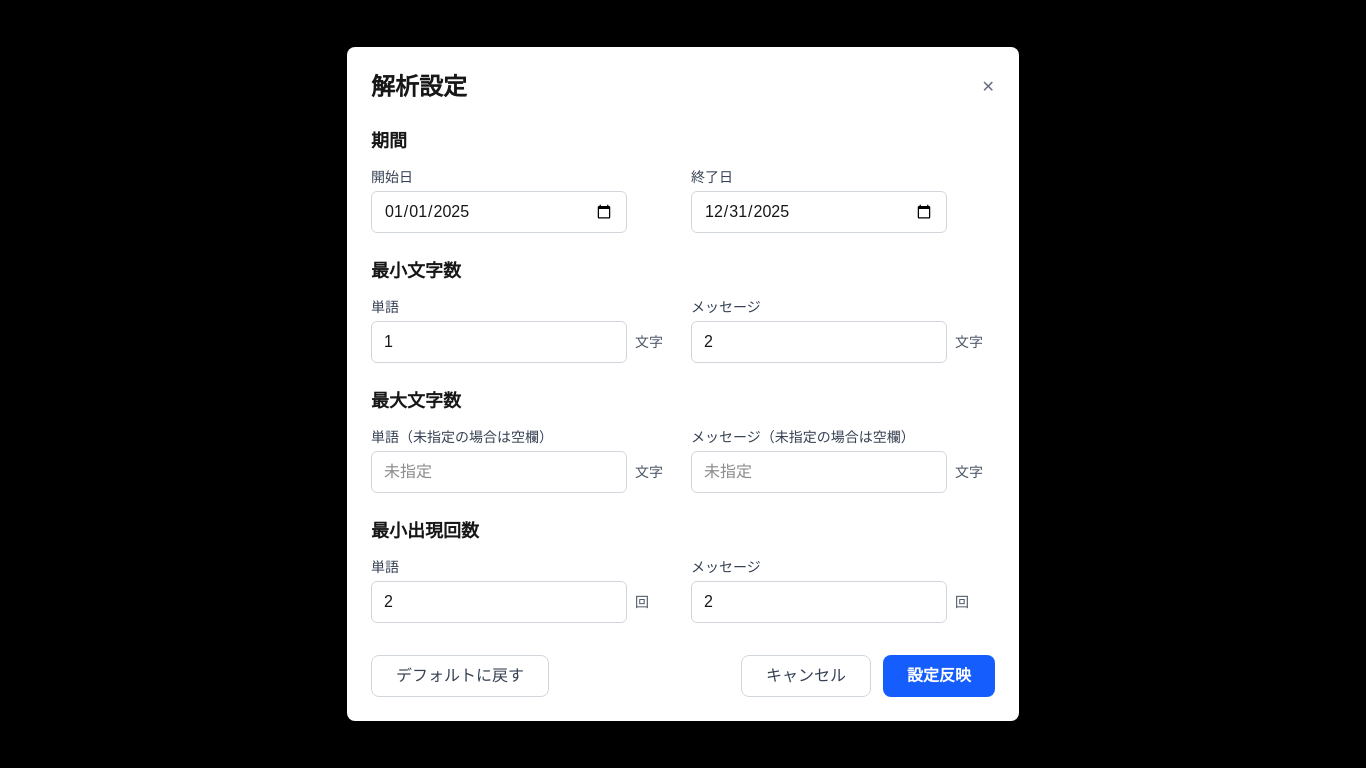
Test case: SettingsModal › 文字数設定 › フォーカスを外すと空文字列は1に戻る
Clear the number field with id "minWordLength" at (499, 342), box [371,321,627,363]
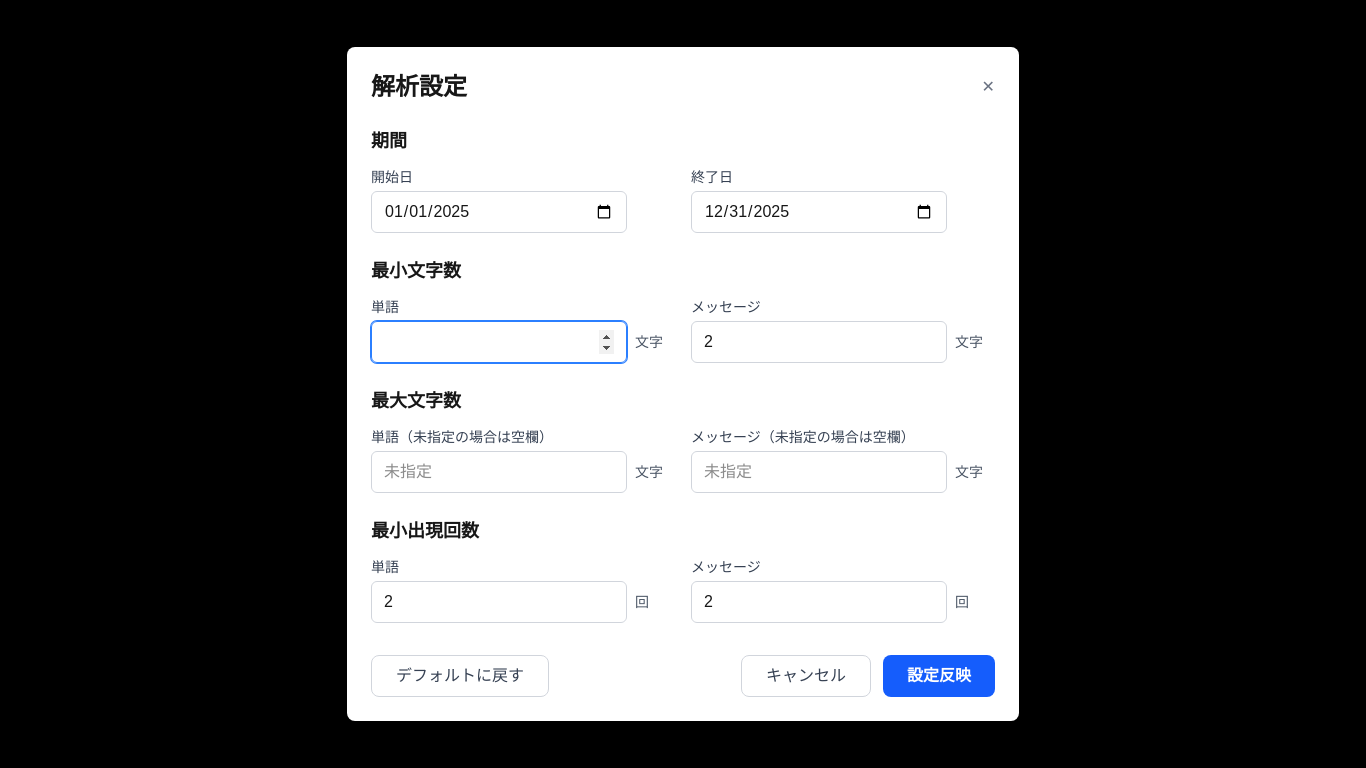
Press Tab
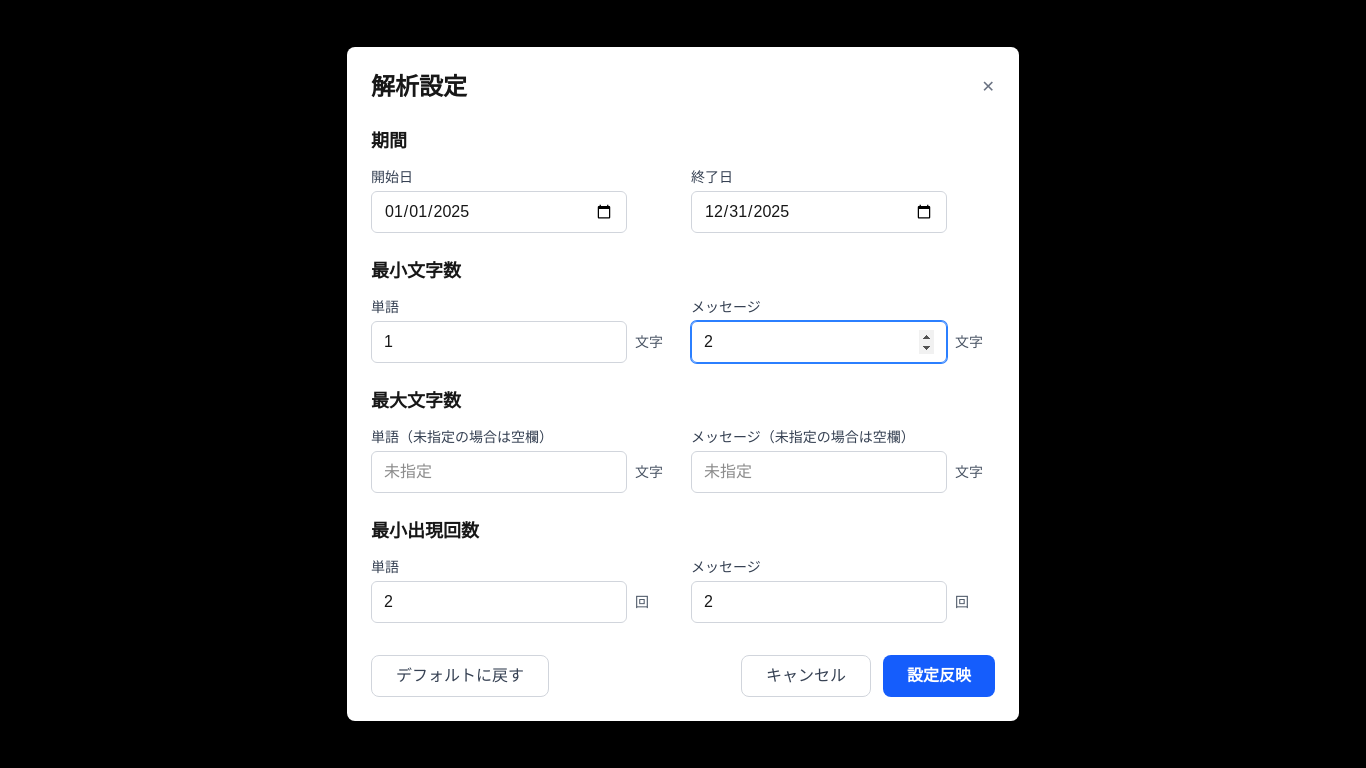
Expected: the number field with id "minWordLength" holds "1", [371,321,627,363]
